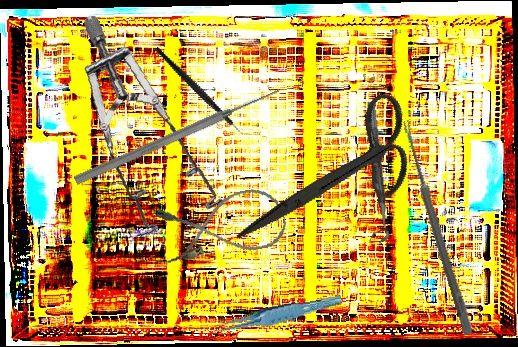Cannula: (155, 184, 290, 266)
Chopper: (154, 26, 253, 157)
Fixation Ring: (354, 101, 391, 244)
Iris Scissors: (234, 61, 435, 290)
Pusher: (72, 84, 282, 188)
Speculum: (54, 13, 249, 248)
Surgical Spoon: (399, 119, 475, 336)
Tissue Forceps: (207, 293, 344, 336)
